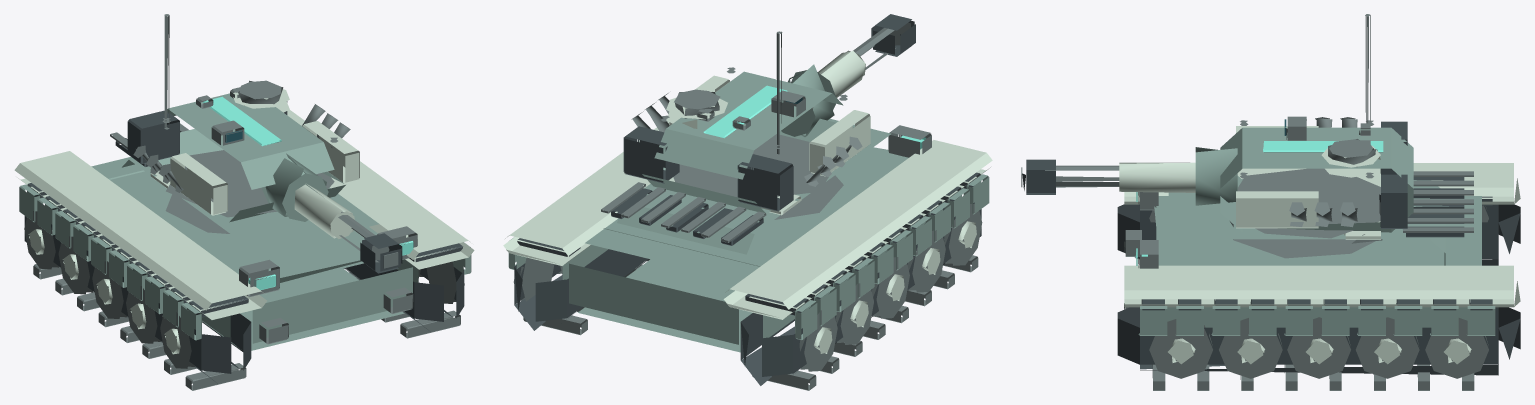
Rendered from tank.glb.
3 renders of one model, left to right at view 1: azimuth 30°, elevation 25°; view 2: azimuth 150°, elevation 25°; view 3: azimuth 270°, elevation 25°, orthographic. The views are drawn at different scales.
Visible parts, largest first — view 1: LowerHull, Fender, TurretArmor, Fender.001, UpperHull, TurretRing, TrackBelt, Detail cheek armor, Detail stowage, TrackBelt.001, Detail gun mantlet, Detail thermal sleeve (+32 smaller); view 2: LowerHull, Fender, TurretArmor, Fender.001, TurretRing, TrackBelt, TrackBelt.001, UpperHull, Detail stowage, Detail stowage.001, Detail cheek armor, Detail gun mantlet (+28 smaller); view 3: Fender.001, LowerHull, TurretArmor, TurretRing, TrackBelt.001, UpperHull, TrackBelt, Fender, Detail cheek armor.001, Detail thermal sleeve, Detail gun mantlet, RoadWheel.005 (+32 smaller).
Part boxes in pixels (left/top/right/bottom): LowerHull: left=79, top=157, right=418, bottom=350; Fender: left=14, top=151, right=266, bottom=319; TurretArmor: left=158, top=93, right=345, bottom=222; Fender.001: left=287, top=109, right=474, bottom=269; UpperHull: left=108, top=158, right=379, bottom=283; TurretRing: left=165, top=150, right=334, bottom=233; TrackBelt: left=24, top=211, right=251, bottom=383; Detail cheek armor: left=170, top=153, right=227, bottom=215; Detail stowage: left=127, top=110, right=179, bottom=163; TrackBelt.001: left=344, top=263, right=464, bottom=331; Detail gun mantlet: left=261, top=153, right=328, bottom=221; Detail thermal sleeve: left=294, top=183, right=354, bottom=238; LowerHull: left=562, top=147, right=925, bottom=352; Fender: left=723, top=140, right=992, bottom=319; TurretArmor: left=642, top=71, right=854, bottom=213; Fender.001: left=503, top=90, right=714, bottom=265; TurretRing: left=673, top=134, right=843, bottom=219; TrackBelt: left=740, top=202, right=981, bottom=385; TrackBelt.001: left=514, top=249, right=649, bottom=330; UpperHull: left=603, top=118, right=891, bottom=266; Detail stowage: left=737, top=154, right=793, bottom=211; Detail stowage.001: left=623, top=126, right=679, bottom=183; Detail cheek armor: left=809, top=110, right=870, bottom=176; Detail gun mantlet: left=781, top=64, right=835, bottom=136; Fender.001: left=1124, top=265, right=1520, bottom=307; LowerHull: left=1156, top=196, right=1481, bottom=327; TurretArmor: left=1220, top=127, right=1413, bottom=232; TurretRing: left=1230, top=168, right=1382, bottom=258; TrackBelt.001: left=1117, top=307, right=1520, bottom=375; UpperHull: left=1154, top=179, right=1445, bottom=265; TrackBelt: left=1117, top=204, right=1520, bottom=265; Fender: left=1124, top=163, right=1520, bottom=204; Detail cheek armor.001: left=1236, top=191, right=1318, bottom=228; Detail thermal sleeve: left=1119, top=162, right=1195, bottom=192; Detail gun mantlet: left=1195, top=147, right=1237, bottom=205; RoadWheel.005: left=1149, top=319, right=1212, bottom=378.
Bounding box in the file's own units: 3 × 2.83 × 4.52.
